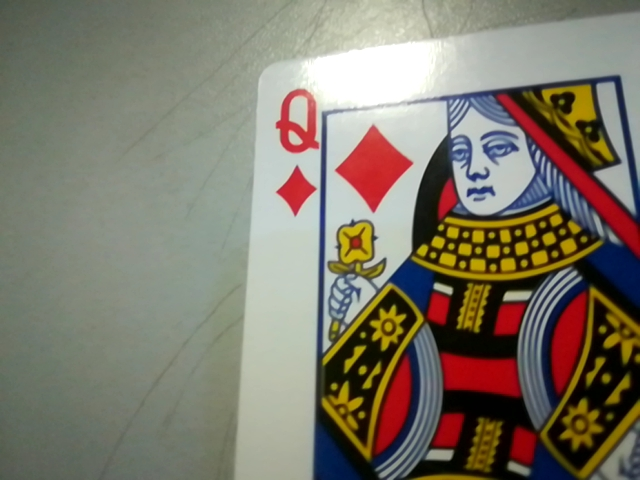fk q: (261, 85, 326, 216)
